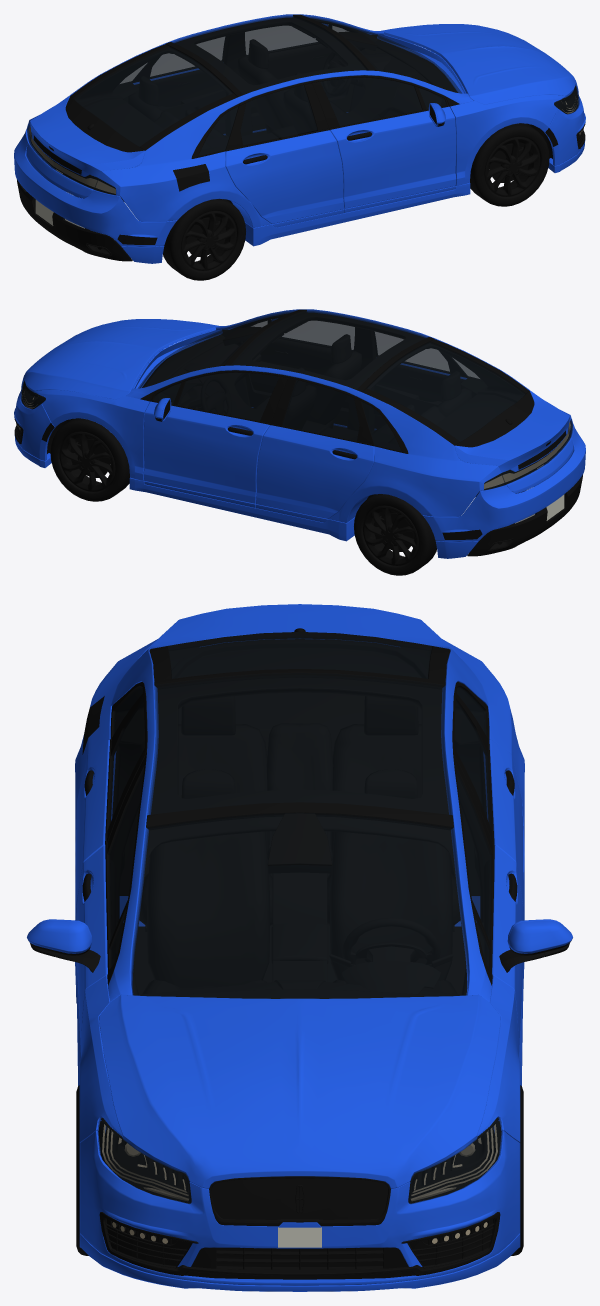
The model's file is lincoln.dae.
The picture shows the model from 3 angles, top to bottom: view 1: azimuth 30°, elevation 25°; view 2: azimuth 150°, elevation 25°; view 3: azimuth 270°, elevation 25°; orthographic projection. The views are drawn at different scales.
Parts seen in each view (by area): view 1: VehicleMesh (×2), SM_Glass_Lincoln_Ext1, SM_Glass_Lincoln_Int2, SM_LincolnDoor_Front_R (×2), SM_LincolnDoor_Back_R (×2), SM_Glass_DoorR_Lincoln_Ext1, SM_Glass_DoorR_Lincoln_Int2, SM_Glass_DoorR_Lincoln_Rear_Ext1, SM_Glass_DoorR_Lincoln_Rear_Int2, SM_LincolnDoor_Back_L, SM_LincolnDoor_Front_L, SM_Lincolnv1_lights; view 2: VehicleMesh (×2), SM_Glass_Lincoln_Ext1, SM_Glass_Lincoln_Int2, SM_LincolnDoor_Front_L (×2), SM_LincolnDoor_Back_L (×2), SM_Glass_DoorL_Lincoln_Ext1, SM_Glass_DoorL_Lincoln_Int2, SM_Glass_DoorL_Lincoln_Rear_Ext1, SM_Glass_DoorL_Lincoln_Rear_Int2, SM_LincolnDoor_Front_R, SM_LincolnDoor_Back_R, SM_Lincolnv1_lights; view 3: VehicleMesh (×3), SM_Glass_Lincoln_Ext1, SM_Glass_Lincoln_Int2, SM_LincolnDoor_Front_L (×2), SM_LincolnDoor_Front_R (×2), SM_LincolnDoor_Back_R (×2), SM_LincolnDoor_Back_L (×2), SM_Glass_DoorR_Lincoln_Ext1, SM_Glass_DoorL_Lincoln_Ext1, SM_Lincolnv1_lights, SM_Glass_DoorR_Lincoln_Int2, SM_Glass_DoorL_Lincoln_Int2 (+4 smaller).
Part boxes in pixels (left/top/right/bottom): VehicleMesh (×2): left=14, top=14, right=585, bottom=280; SM_Glass_Lincoln_Ext1: left=24, top=14, right=579, bottom=227; SM_Glass_Lincoln_Int2: left=27, top=16, right=578, bottom=226; SM_LincolnDoor_Front_R (×2): left=311, top=75, right=456, bottom=212; SM_LincolnDoor_Back_R (×2): left=225, top=81, right=344, bottom=227; SM_Glass_DoorR_Lincoln_Ext1: left=320, top=78, right=445, bottom=125; SM_Glass_DoorR_Lincoln_Int2: left=321, top=78, right=445, bottom=125; SM_Glass_DoorR_Lincoln_Rear_Ext1: left=241, top=85, right=317, bottom=144; SM_Glass_DoorR_Lincoln_Rear_Int2: left=241, top=85, right=316, bottom=144; SM_LincolnDoor_Back_L: left=132, top=36, right=226, bottom=133; SM_LincolnDoor_Front_L: left=246, top=25, right=353, bottom=130; SM_Lincolnv1_lights: left=29, top=98, right=583, bottom=223; VehicleMesh (×2): left=14, top=309, right=585, bottom=575; SM_Glass_Lincoln_Ext1: left=20, top=309, right=575, bottom=522; SM_Glass_Lincoln_Int2: left=21, top=311, right=572, bottom=521; SM_LincolnDoor_Front_L (×2): left=143, top=370, right=288, bottom=507; SM_LincolnDoor_Back_L (×2): left=256, top=376, right=374, bottom=522; SM_Glass_DoorL_Lincoln_Ext1: left=154, top=373, right=279, bottom=420; SM_Glass_DoorL_Lincoln_Int2: left=154, top=373, right=278, bottom=420; SM_Glass_DoorL_Lincoln_Rear_Ext1: left=282, top=380, right=359, bottom=440; SM_Glass_DoorL_Lincoln_Rear_Int2: left=283, top=381, right=358, bottom=440; SM_LincolnDoor_Front_R: left=245, top=320, right=353, bottom=425; SM_LincolnDoor_Back_R: left=373, top=331, right=467, bottom=428; SM_Lincolnv1_lights: left=16, top=393, right=570, bottom=518; VehicleMesh (×3): left=75, top=604, right=524, bottom=1291; SM_Glass_Lincoln_Ext1: left=97, top=632, right=502, bottom=1203; SM_Glass_Lincoln_Int2: left=98, top=634, right=501, bottom=1203; SM_LincolnDoor_Front_L (×2): left=453, top=752, right=572, bottom=1085; SM_LincolnDoor_Front_R (×2): left=27, top=752, right=146, bottom=1085; SM_LincolnDoor_Back_R (×2): left=75, top=690, right=147, bottom=1003; SM_LincolnDoor_Back_L (×2): left=452, top=690, right=524, bottom=1000; SM_Glass_DoorR_Lincoln_Ext1: left=108, top=768, right=143, bottom=968; SM_Glass_DoorL_Lincoln_Ext1: left=456, top=768, right=491, bottom=967; SM_Lincolnv1_lights: left=102, top=1124, right=497, bottom=1243; SM_Glass_DoorR_Lincoln_Int2: left=109, top=773, right=142, bottom=966; SM_Glass_DoorL_Lincoln_Int2: left=457, top=773, right=490, bottom=966.
Size of the model in its own units: 4.89 by 2.23 by 1.52.
